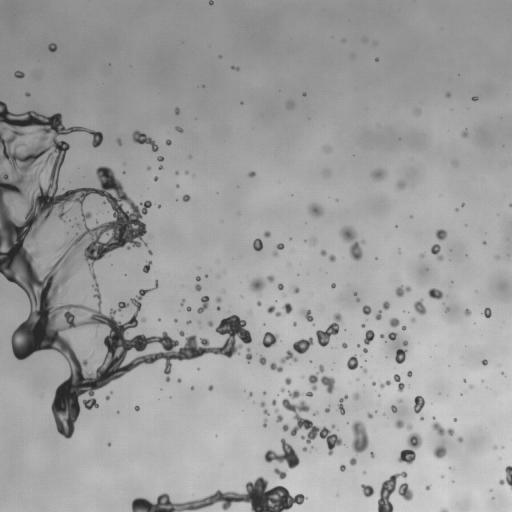droplet: (263, 438, 300, 469), (248, 275, 274, 297), (258, 332, 282, 348), (307, 202, 323, 217), (430, 244, 443, 261), (413, 298, 426, 315), (299, 307, 313, 322), (395, 347, 407, 364), (360, 484, 375, 497), (395, 285, 411, 297), (433, 445, 447, 458), (273, 467, 287, 480), (371, 168, 386, 180), (427, 288, 443, 299), (363, 330, 374, 345), (435, 229, 447, 241), (252, 238, 263, 251), (142, 260, 152, 273), (60, 116, 71, 127), (122, 134, 133, 145), (157, 144, 168, 155), (0, 159, 11, 170), (383, 174, 394, 185), (332, 220, 343, 231), (112, 246, 123, 257), (263, 281, 274, 292), (240, 282, 251, 293), (247, 290, 258, 301), (386, 292, 397, 303), (404, 292, 415, 303), (422, 296, 433, 307), (204, 306, 215, 317), (471, 306, 482, 317), (381, 309, 392, 320), (115, 313, 126, 324), (366, 319, 377, 330), (123, 328, 134, 339), (251, 331, 262, 342), (214, 334, 225, 345), (263, 346, 274, 357), (31, 349, 42, 360), (56, 353, 67, 364), (282, 360, 293, 371), (395, 363, 406, 374), (282, 364, 293, 375), (58, 370, 69, 381), (107, 378, 118, 389), (332, 385, 343, 396), (93, 387, 104, 398), (282, 409, 293, 420), (345, 411, 356, 422), (312, 416, 323, 427), (399, 428, 410, 439), (418, 430, 429, 441), (343, 431, 354, 442), (437, 435, 448, 446), (314, 436, 325, 447), (291, 440, 302, 451), (236, 484, 247, 495), (388, 492, 399, 503), (304, 236, 317, 245), (362, 304, 372, 315), (481, 307, 491, 318), (389, 317, 400, 327), (229, 501, 240, 511), (241, 501, 252, 511), (379, 380, 391, 388), (396, 180, 405, 190), (14, 70, 25, 78), (258, 354, 266, 365), (48, 43, 57, 52), (293, 94, 302, 103), (173, 115, 182, 124), (169, 131, 178, 140), (155, 137, 164, 146), (113, 172, 122, 181), (176, 173, 185, 182), (375, 178, 384, 187), (121, 184, 130, 193), (315, 197, 324, 206), (304, 212, 313, 221), (343, 218, 352, 227), (342, 240, 351, 249), (258, 270, 267, 279), (241, 280, 250, 289), (207, 299, 216, 308), (274, 302, 283, 311), (188, 310, 197, 319), (297, 315, 306, 324), (169, 331, 178, 340), (177, 338, 186, 347), (393, 339, 402, 348), (216, 352, 225, 361), (193, 355, 202, 364), (156, 357, 165, 366), (308, 365, 317, 374), (323, 368, 332, 377), (123, 370, 132, 379), (277, 371, 286, 380), (302, 382, 311, 391), (316, 382, 325, 391), (351, 383, 360, 392), (46, 392, 55, 401), (253, 392, 262, 401), (76, 393, 85, 402), (303, 396, 312, 405), (329, 402, 338, 411), (330, 406, 339, 415), (299, 410, 308, 419), (389, 412, 398, 421), (423, 417, 432, 426), (288, 418, 297, 427), (440, 420, 449, 429), (411, 425, 420, 434), (294, 448, 303, 457), (347, 448, 356, 457), (270, 459, 279, 468), (279, 460, 288, 469), (498, 470, 507, 479), (372, 483, 381, 492), (371, 491, 380, 500), (182, 493, 191, 502), (213, 500, 222, 509), (322, 145, 332, 153), (286, 100, 294, 109), (290, 285, 299, 293), (388, 332, 397, 340), (351, 392, 360, 400), (122, 505, 133, 511), (287, 505, 298, 511), (461, 128, 468, 137), (349, 456, 356, 465), (182, 194, 190, 201), (263, 230, 271, 237), (464, 308, 471, 316), (284, 377, 291, 385), (390, 405, 397, 413), (174, 126, 183, 132), (324, 404, 330, 413), (414, 108, 421, 115), (45, 110, 52, 117), (56, 134, 63, 141), (143, 142, 150, 149), (155, 149, 162, 156), (100, 160, 107, 167), (371, 163, 378, 170), (152, 168, 159, 175), (173, 175, 180, 182), (6, 176, 13, 183), (94, 182, 101, 189), (56, 188, 63, 195), (139, 215, 146, 222), (354, 235, 361, 242), (260, 236, 267, 243), (432, 237, 439, 244), (130, 245, 137, 252), (272, 278, 279, 285), (433, 283, 440, 290), (198, 289, 205, 296), (284, 296, 291, 303), (261, 303, 268, 310), (330, 307, 337, 314), (102, 309, 109, 316), (412, 310, 419, 317), (368, 311, 375, 318), (20, 314, 27, 321), (466, 314, 473, 321), (200, 319, 207, 326), (213, 319, 220, 326), (393, 325, 400, 332), (184, 330, 191, 337), (7, 350, 14, 357), (201, 352, 208, 359), (251, 355, 258, 362), (356, 357, 363, 364), (170, 358, 177, 365), (181, 358, 188, 365), (139, 362, 146, 369), (281, 362, 288, 369), (315, 379, 322, 386), (287, 384, 294, 391), (281, 391, 288, 398), (258, 394, 265, 401), (288, 397, 295, 404), (275, 400, 282, 407), (341, 400, 348, 407), (265, 402, 272, 409), (78, 403, 85, 410), (46, 410, 53, 417), (269, 413, 276, 420), (402, 417, 409, 424), (72, 420, 79, 427), (448, 421, 455, 428), (50, 422, 57, 429), (452, 431, 459, 438), (57, 433, 64, 440), (366, 434, 373, 441), (299, 439, 306, 446), (403, 443, 410, 450), (332, 444, 339, 451), (276, 448, 283, 455), (362, 448, 369, 455), (441, 454, 448, 461), (431, 455, 438, 462), (342, 458, 349, 465), (344, 462, 351, 469), (293, 464, 300, 471), (278, 479, 285, 486), (265, 483, 272, 490), (220, 486, 227, 493), (356, 487, 363, 494), (208, 488, 215, 495), (288, 490, 295, 497), (126, 496, 133, 503), (169, 496, 176, 503), (149, 497, 156, 504), (230, 500, 237, 507), (247, 171, 255, 177), (207, 319, 213, 327), (339, 463, 345, 471), (199, 506, 208, 511), (277, 283, 283, 290), (195, 284, 201, 291), (406, 370, 412, 377), (174, 107, 179, 115), (116, 138, 121, 146), (271, 398, 276, 406), (165, 139, 171, 145), (215, 296, 221, 302), (256, 300, 262, 306), (444, 306, 450, 312), (402, 340, 408, 346), (341, 342, 347, 348), (481, 359, 487, 365), (367, 412, 373, 418), (457, 436, 463, 442), (471, 96, 478, 101), (157, 156, 164, 161), (312, 410, 319, 415), (445, 92, 451, 97), (419, 252, 425, 257), (195, 275, 200, 281), (247, 310, 253, 315), (401, 325, 406, 331), (208, 385, 213, 391), (468, 384, 474, 389), (134, 405, 139, 411), (492, 444, 497, 450), (425, 485, 431, 490), (370, 451, 374, 458), (371, 507, 378, 511), (25, 92, 30, 97), (158, 165, 163, 170), (174, 170, 179, 175), (153, 176, 158, 181), (494, 254, 499, 259), (186, 306, 191, 311), (141, 317, 146, 322), (410, 317, 415, 322), (186, 320, 191, 325), (371, 381, 376, 386), (280, 387, 285, 392), (47, 50, 52, 55), (52, 50, 57, 55), (231, 68, 236, 73), (9, 72, 14, 77), (17, 77, 22, 82), (449, 89, 454, 94), (440, 91, 445, 96), (447, 96, 452, 101), (0, 97, 5, 102), (6, 106, 11, 111), (24, 106, 29, 111), (170, 109, 175, 114), (178, 109, 183, 114), (73, 121, 78, 126), (80, 122, 85, 127), (93, 127, 98, 132), (129, 128, 134, 133), (139, 128, 144, 133), (466, 128, 471, 133), (72, 130, 77, 135), (101, 132, 106, 137), (145, 132, 150, 137), (88, 133, 93, 138), (463, 136, 468, 141), (120, 138, 125, 143), (99, 141, 104, 146), (113, 141, 118, 146), (135, 142, 140, 147), (159, 160, 164, 165), (61, 161, 66, 166), (249, 166, 254, 171), (178, 169, 183, 174), (188, 169, 193, 174), (186, 173, 191, 178), (251, 175, 256, 180), (78, 183, 83, 188), (84, 183, 89, 188), (404, 183, 409, 188), (70, 185, 75, 190), (125, 192, 130, 197), (177, 195, 182, 200), (133, 200, 138, 205), (185, 200, 190, 205), (455, 202, 460, 207), (138, 204, 143, 209), (438, 224, 443, 229), (144, 225, 149, 230), (265, 226, 270, 231), (141, 233, 146, 238), (276, 238, 281, 243), (358, 242, 363, 247), (147, 244, 152, 249), (426, 245, 431, 250), (249, 246, 254, 251), (259, 248, 264, 253), (276, 248, 281, 253), (252, 249, 257, 254), (315, 249, 320, 254), (426, 249, 431, 254), (437, 250, 442, 255), (325, 251, 330, 256), (103, 252, 108, 257), (334, 253, 339, 258), (431, 253, 436, 258), (146, 254, 151, 259), (323, 254, 328, 259), (94, 259, 99, 264), (439, 259, 444, 264), (327, 260, 332, 265), (331, 260, 336, 265), (149, 264, 154, 269), (266, 270, 271, 275), (199, 273, 204, 278), (10, 281, 15, 286), (150, 282, 155, 287), (395, 282, 400, 287), (409, 283, 414, 288), (97, 284, 102, 289), (190, 285, 195, 290), (98, 288, 103, 293), (298, 288, 303, 293), (402, 290, 407, 295), (441, 290, 446, 295), (294, 292, 299, 297), (219, 293, 224, 298), (100, 295, 105, 300), (399, 295, 404, 300), (414, 296, 419, 301), (259, 297, 264, 302), (123, 298, 128, 303), (183, 301, 188, 306), (198, 301, 203, 306), (217, 301, 222, 306), (267, 301, 272, 306), (366, 301, 371, 306), (290, 303, 295, 308), (388, 303, 393, 308), (113, 304, 118, 309), (378, 304, 383, 309), (304, 305, 309, 310), (280, 307, 285, 312), (202, 308, 207, 313), (289, 309, 294, 314), (358, 309, 363, 314), (270, 311, 275, 316), (309, 311, 314, 316), (490, 311, 495, 316), (223, 313, 228, 318), (362, 313, 367, 318), (238, 314, 243, 319), (340, 314, 345, 319), (126, 315, 131, 320), (135, 315, 140, 320), (276, 315, 281, 320), (396, 315, 401, 320), (329, 318, 334, 323), (191, 319, 196, 324), (306, 320, 311, 325), (326, 320, 331, 325), (243, 324, 248, 329), (321, 326, 326, 331), (362, 326, 367, 331), (337, 328, 342, 333), (270, 329, 275, 334), (144, 332, 149, 337), (157, 332, 162, 337), (249, 333, 254, 338), (329, 333, 334, 338), (383, 334, 388, 339), (303, 335, 308, 340), (294, 336, 299, 341), (312, 336, 317, 341), (274, 339, 279, 344), (369, 339, 374, 344), (242, 342, 247, 347), (360, 342, 365, 347), (325, 343, 330, 348), (259, 344, 264, 349), (269, 344, 274, 349), (400, 345, 405, 350), (291, 349, 296, 354), (281, 351, 286, 356), (391, 351, 396, 356), (231, 352, 236, 357), (363, 352, 368, 357), (344, 355, 349, 360), (287, 357, 292, 362), (265, 360, 270, 365), (392, 360, 397, 365), (401, 360, 406, 365), (486, 360, 491, 365), (275, 361, 280, 366), (256, 362, 261, 367), (343, 365, 348, 370), (354, 366, 359, 371), (366, 367, 371, 372), (272, 368, 277, 373), (350, 368, 355, 373), (167, 372, 172, 377), (161, 373, 166, 378), (304, 373, 309, 378), (316, 374, 321, 379), (389, 377, 394, 382), (399, 377, 404, 382), (380, 378, 385, 383), (280, 380, 285, 385), (332, 382, 337, 387), (463, 382, 468, 387), (374, 383, 379, 388), (383, 384, 388, 389), (402, 386, 407, 391), (339, 392, 344, 397), (347, 393, 352, 398), (359, 393, 364, 398), (421, 393, 426, 398), (249, 395, 254, 400), (355, 398, 360, 403), (255, 399, 260, 404), (410, 400, 415, 405), (394, 402, 399, 407), (322, 403, 327, 408), (258, 406, 263, 411), (420, 407, 425, 412), (319, 408, 324, 413), (369, 409, 374, 414), (377, 409, 382, 414), (434, 417, 439, 422), (428, 418, 433, 423), (258, 419, 263, 424), (279, 420, 284, 425), (348, 420, 353, 425), (325, 424, 330, 429), (329, 429, 334, 434), (432, 429, 437, 434), (71, 431, 76, 436), (443, 431, 448, 436), (336, 433, 341, 438), (315, 434, 320, 439), (462, 436, 467, 441), (65, 437, 70, 442), (321, 437, 326, 442), (454, 440, 459, 445), (459, 441, 464, 446), (305, 443, 310, 448), (496, 447, 501, 452), (261, 449, 266, 454), (395, 452, 400, 457), (411, 459, 416, 464), (401, 460, 406, 465), (335, 463, 340, 468), (501, 464, 506, 469), (389, 470, 394, 475), (384, 475, 389, 480), (494, 478, 499, 483), (363, 480, 368, 485), (503, 481, 508, 486), (407, 484, 412, 489), (157, 490, 162, 495), (302, 491, 307, 496), (489, 491, 494, 496), (362, 495, 367, 500), (292, 502, 297, 507), (441, 503, 446, 508), (155, 204, 161, 208), (331, 283, 335, 289), (397, 398, 403, 402), (0, 147, 3, 154), (209, 0, 213, 5), (146, 166, 151, 170), (461, 202, 465, 207), (282, 293, 287, 297), (356, 297, 360, 302), (173, 318, 177, 323), (292, 321, 296, 326), (379, 334, 384, 338), (177, 378, 181, 383), (262, 390, 266, 395), (105, 395, 109, 400), (398, 248, 401, 254), (341, 38, 345, 42), (374, 57, 378, 61), (302, 92, 306, 96), (184, 170, 188, 174), (216, 306, 220, 310), (361, 323, 365, 327), (300, 375, 304, 379), (190, 386, 194, 390), (362, 470, 366, 474), (454, 208, 459, 211), (508, 461, 511, 466), (391, 508, 396, 511), (218, 55, 222, 58), (188, 155, 191, 159), (122, 170, 125, 174), (176, 184, 179, 188), (409, 215, 413, 218), (482, 241, 486, 244), (374, 257, 378, 260), (204, 274, 208, 277), (353, 292, 357, 295), (157, 318, 161, 321), (356, 344, 360, 347), (196, 367, 200, 370), (356, 377, 359, 381), (463, 378, 466, 382), (374, 409, 377, 413), (453, 418, 457, 421), (107, 442, 110, 446), (489, 488, 492, 492), (491, 496, 495, 499), (0, 272, 2, 277), (240, 101, 243, 104), (122, 162, 125, 165), (335, 198, 338, 201), (289, 237, 292, 240), (197, 266, 200, 269), (312, 323, 315, 326), (364, 359, 367, 362), (481, 379, 484, 382), (110, 391, 113, 394), (116, 410, 119, 413), (382, 412, 385, 415), (501, 446, 504, 449), (498, 457, 501, 460), (441, 475, 444, 478), (336, 493, 339, 496), (210, 4, 213, 7), (48, 40, 51, 43), (378, 57, 381, 60), (371, 58, 374, 61), (375, 61, 378, 64), (233, 64, 236, 67), (13, 68, 16, 71), (19, 68, 22, 71), (238, 68, 241, 71), (198, 84, 201, 87), (201, 87, 204, 90), (26, 89, 29, 92), (299, 91, 302, 94), (305, 91, 308, 94), (471, 93, 474, 96), (24, 95, 27, 98), (27, 95, 30, 98), (301, 95, 304, 98), (242, 99, 245, 102), (470, 99, 473, 102), (475, 99, 478, 102), (236, 101, 239, 104), (241, 103, 244, 106), (175, 114, 178, 117), (179, 124, 182, 127), (464, 124, 467, 127), (461, 127, 464, 130), (177, 131, 180, 134), (151, 137, 154, 140), (169, 137, 172, 140), (154, 141, 157, 144), (167, 144, 170, 147), (63, 157, 66, 160), (163, 157, 166, 160), (144, 164, 147, 167), (59, 166, 62, 169), (143, 167, 146, 170), (160, 168, 163, 171), (124, 169, 127, 172), (172, 169, 175, 172), (254, 171, 257, 174), (151, 175, 154, 178), (156, 178, 159, 181), (151, 179, 154, 182), (178, 183, 181, 186), (172, 184, 175, 187), (188, 193, 191, 196), (146, 197, 149, 200), (172, 198, 175, 201), (141, 200, 144, 203), (150, 201, 153, 204), (462, 205, 465, 208), (159, 206, 162, 209), (146, 207, 149, 210), (453, 210, 456, 213), (392, 222, 395, 225), (397, 224, 400, 227), (392, 226, 395, 229), (304, 236, 307, 239), (300, 239, 303, 242), (485, 239, 488, 242), (250, 240, 253, 243), (479, 240, 482, 243), (481, 243, 484, 246), (283, 244, 286, 247), (395, 248, 398, 251), (399, 248, 402, 251), (150, 249, 153, 252), (146, 252, 149, 255), (376, 254, 379, 257), (371, 256, 374, 259), (374, 259, 377, 262), (151, 260, 154, 263), (123, 270, 126, 273), (142, 271, 145, 274), (204, 271, 207, 274), (94, 272, 97, 275), (126, 273, 129, 276), (194, 273, 197, 276), (293, 273, 296, 276), (207, 274, 210, 277), (123, 275, 126, 278), (297, 275, 300, 278), (192, 276, 195, 279), (451, 277, 454, 280), (96, 280, 99, 283), (196, 280, 199, 283), (157, 281, 160, 284), (449, 282, 452, 285), (327, 283, 330, 286), (142, 286, 145, 289), (282, 286, 285, 289), (275, 287, 278, 290), (332, 287, 335, 290), (153, 288, 156, 291), (290, 288, 293, 291), (353, 288, 356, 291), (279, 289, 282, 292), (144, 292, 147, 295), (350, 292, 353, 295), (180, 295, 183, 298), (353, 295, 356, 298), (138, 299, 141, 302), (178, 299, 181, 302), (254, 299, 257, 302), (177, 303, 180, 306), (254, 303, 257, 306), (485, 304, 488, 307), (139, 306, 142, 309), (467, 306, 470, 309), (121, 307, 124, 310), (442, 307, 445, 310), (462, 307, 465, 310), (481, 309, 484, 312), (187, 310, 190, 313), (404, 310, 407, 313), (446, 311, 449, 314), (481, 313, 484, 316), (155, 315, 158, 318), (159, 315, 162, 318), (174, 315, 177, 318), (489, 315, 492, 318), (186, 317, 189, 320), (485, 317, 488, 320), (304, 318, 307, 321), (376, 319, 379, 322), (156, 320, 159, 323), (171, 320, 174, 323), (310, 320, 313, 323), (361, 320, 364, 323), (290, 321, 293, 324), (188, 322, 191, 325), (295, 324, 298, 327), (291, 325, 294, 328), (405, 326, 408, 329), (403, 329, 406, 332), (372, 336, 375, 339), (344, 340, 347, 343), (407, 340, 410, 343), (340, 346, 343, 349), (404, 351, 407, 354), (350, 353, 353, 356), (484, 356, 487, 359), (480, 357, 483, 360), (244, 358, 247, 361), (479, 362, 482, 365), (247, 363, 250, 366), (199, 367, 202, 370), (500, 368, 503, 371), (194, 369, 197, 372), (411, 371, 414, 374), (503, 371, 506, 374), (397, 372, 400, 375), (500, 374, 503, 377), (180, 378, 183, 381), (465, 378, 468, 381), (369, 379, 372, 382), (460, 380, 463, 383), (176, 381, 179, 384), (395, 381, 398, 384), (369, 383, 372, 386), (187, 385, 190, 388), (193, 385, 196, 388), (205, 385, 208, 388), (212, 386, 215, 389), (156, 387, 159, 390), (260, 388, 263, 391), (459, 389, 462, 392), (265, 390, 268, 393), (311, 390, 314, 393), (246, 391, 249, 394), (251, 391, 254, 394), (259, 391, 262, 394), (417, 392, 420, 395), (456, 392, 459, 395), (108, 393, 111, 396), (462, 393, 465, 396), (379, 395, 382, 398), (459, 395, 462, 398), (376, 396, 379, 399), (423, 398, 426, 401), (269, 399, 272, 402), (95, 400, 98, 403), (135, 402, 138, 405), (388, 403, 391, 406), (335, 405, 338, 408), (342, 405, 345, 408), (374, 406, 377, 409), (118, 408, 121, 411), (132, 408, 135, 411), (388, 408, 391, 411), (137, 409, 140, 412), (113, 410, 116, 413), (263, 413, 266, 416), (453, 414, 456, 417), (383, 415, 386, 418), (423, 416, 426, 419), (450, 417, 453, 420), (456, 418, 459, 421), (420, 419, 423, 422), (265, 421, 268, 424), (265, 425, 268, 428), (261, 426, 264, 429), (104, 442, 107, 445), (110, 442, 113, 445), (497, 445, 500, 448), (311, 448, 314, 451), (372, 450, 375, 453), (450, 465, 453, 468), (364, 468, 367, 471), (446, 468, 449, 471), (359, 471, 362, 474), (406, 473, 409, 476), (437, 475, 440, 478), (441, 477, 444, 480), (426, 482, 429, 485), (422, 485, 425, 488), (429, 485, 432, 488), (426, 489, 429, 492), (303, 498, 306, 501), (492, 498, 495, 501), (509, 203, 511, 207), (176, 198, 178, 201), (464, 224, 467, 226), (66, 232, 68, 235), (297, 273, 299, 276), (451, 280, 453, 283), (240, 295, 243, 297), (442, 302, 444, 305), (402, 310, 405, 312), (262, 323, 265, 325), (344, 328, 346, 331), (309, 360, 312, 362), (277, 393, 279, 396), (378, 394, 380, 397), (346, 421, 348, 424), (215, 434, 217, 437), (509, 200, 511, 203), (509, 206, 511, 209), (202, 85, 204, 87), (216, 192, 218, 194), (291, 194, 293, 196), (395, 225, 397, 227), (449, 249, 451, 251), (465, 254, 467, 256), (507, 254, 509, 256), (475, 290, 477, 292), (365, 319, 367, 321), (385, 356, 387, 358), (160, 388, 162, 390), (438, 392, 440, 394), (460, 393, 462, 395), (169, 396, 171, 398), (452, 480, 454, 482), (206, 0, 209, 1), (212, 0, 215, 1), (124, 274, 126, 275), (275, 300, 277, 301), (474, 322, 475, 324), (243, 390, 245, 391), (448, 365, 449, 366)
ligament: (269, 336, 314, 372), (394, 418, 422, 464), (315, 312, 343, 346), (339, 226, 364, 260), (351, 420, 369, 456), (132, 129, 158, 151), (431, 416, 454, 436), (266, 302, 292, 317), (374, 300, 389, 320), (413, 395, 425, 420), (499, 465, 511, 490), (335, 394, 349, 415), (197, 295, 209, 313), (393, 374, 404, 393), (320, 249, 336, 262), (272, 243, 284, 257), (274, 407, 283, 422), (260, 401, 269, 415), (245, 347, 252, 363), (359, 347, 368, 356), (331, 424, 339, 431), (230, 65, 239, 71), (196, 319, 201, 329), (262, 418, 267, 427), (147, 248, 153, 255), (180, 298, 185, 306), (247, 391, 252, 399), (440, 508, 449, 511), (501, 371, 505, 377), (448, 466, 454, 470), (62, 187, 63, 190)
